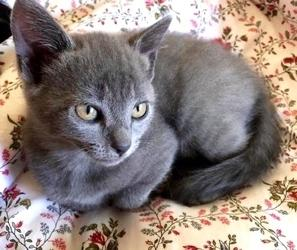rblue: (6, 1, 180, 180)
